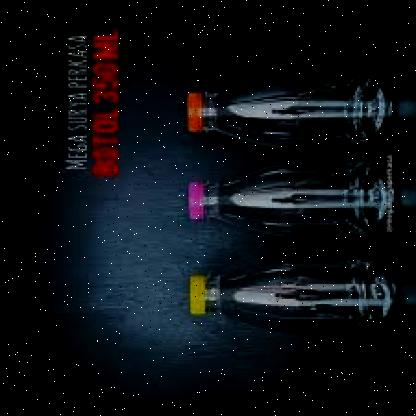Plastic Bottle: (186, 154, 393, 238), (181, 69, 393, 149), (188, 254, 396, 332)
